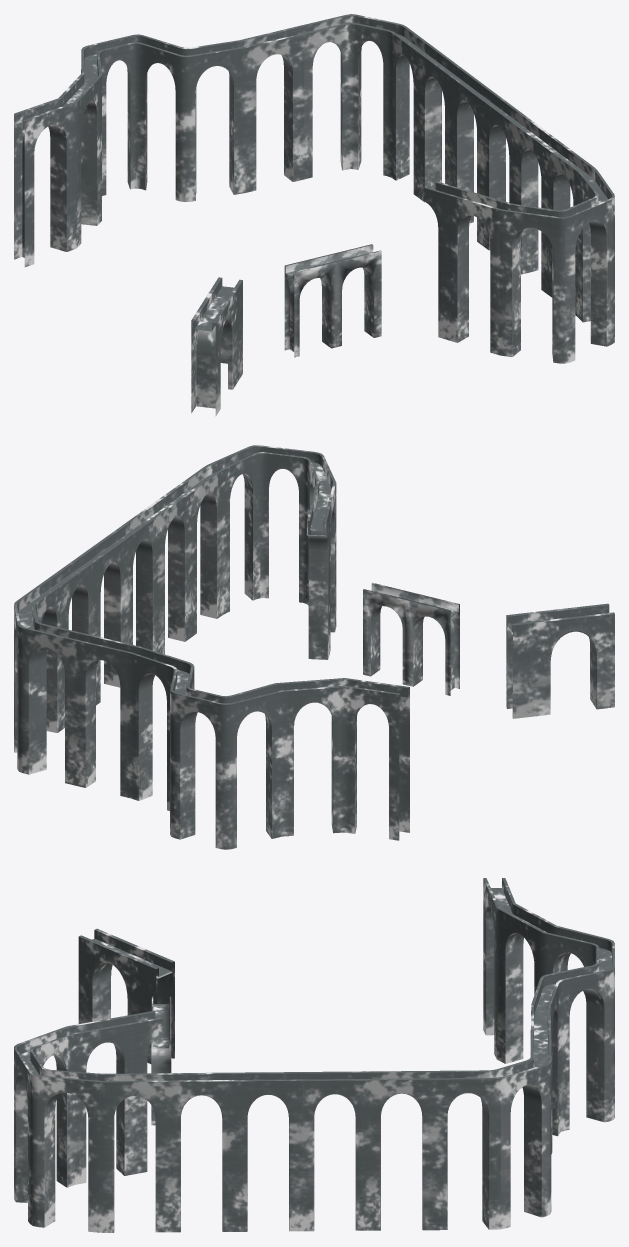
The model's file is field_winter_insidewall.fbx.
3 renders of one model, top to bottom at view 1: azimuth 30°, elevation 25°; view 2: azimuth 150°, elevation 25°; view 3: azimuth 270°, elevation 25°, orthographic. The views are drawn at different scales.
Visible parts, largest first — view 1: field_winter_insidewall; view 2: field_winter_insidewall; view 3: field_winter_insidewall.
Part boxes in pixels (x1,y1,x2,y2): field_winter_insidewall: (14, 14, 614, 416); field_winter_insidewall: (14, 445, 614, 849); field_winter_insidewall: (14, 878, 614, 1232).
Bounding box in the file's own units: 4482 × 1626 × 5517.
Materials: 1 (1 with a texture image).
